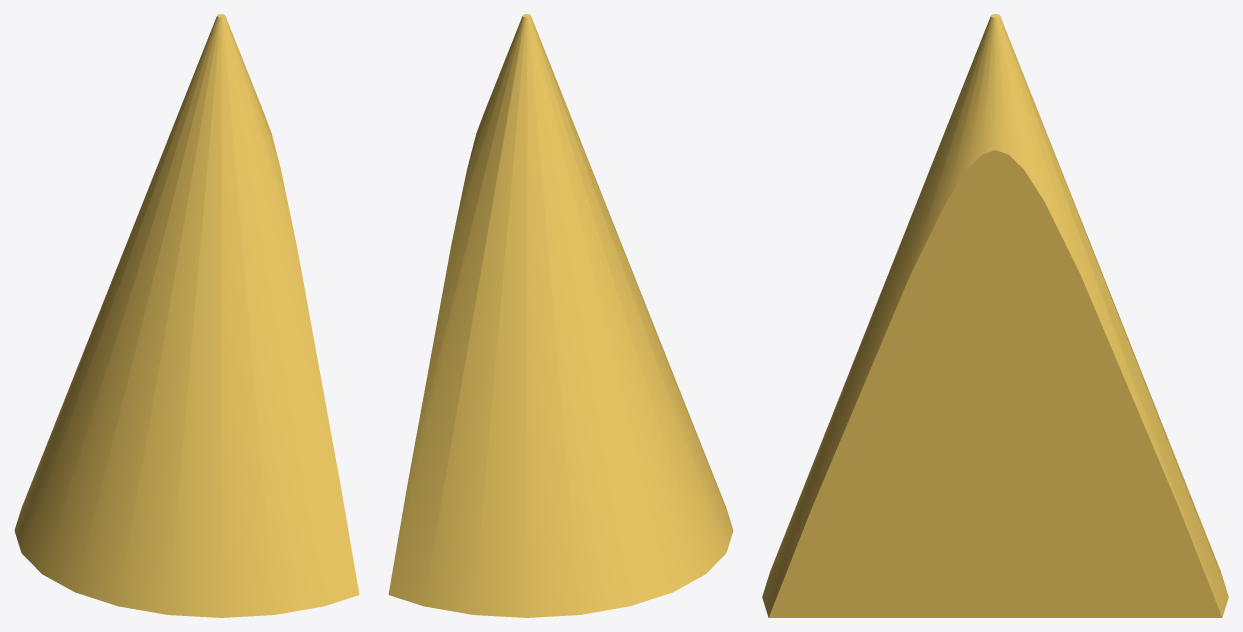
The model's file is Cono_Perpendicular_BaseA.fbx.
3 views of the same model, side by side, from view 1: azimuth 30°, elevation 25°; view 2: azimuth 150°, elevation 25°; view 3: azimuth 270°, elevation 25° (orthographic). The views are drawn at different scales.
Parts seen in each view (by area): view 1: Difference2; view 2: Difference2; view 3: Difference2.
Boxes of the visible parts, x1=… form: Difference2: x1=14, y1=14, x2=359, y2=617; Difference2: x1=388, y1=14, x2=733, y2=617; Difference2: x1=762, y1=14, x2=1228, y2=617.
Bounding box in the file's own units: 60.56 × 137 × 100.
